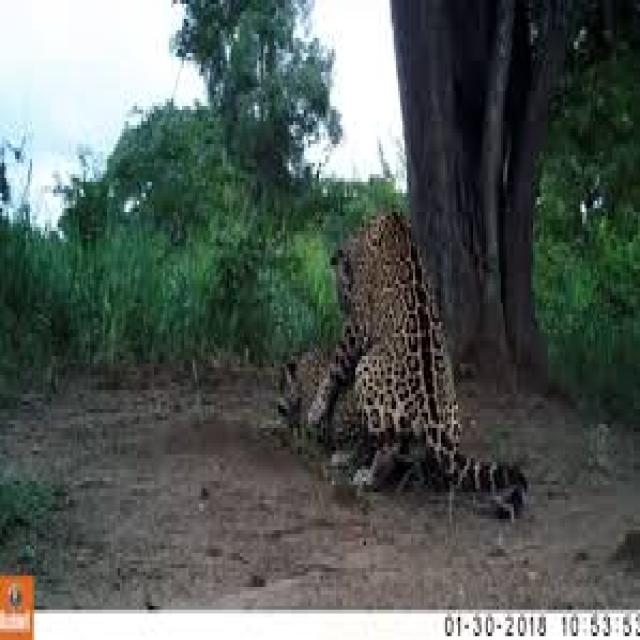Jaguar: (336, 201, 484, 496)
